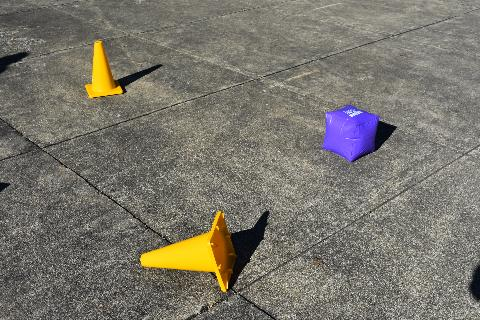cone: (141, 210, 237, 292), (85, 41, 125, 97)
cube: (321, 105, 381, 163)
